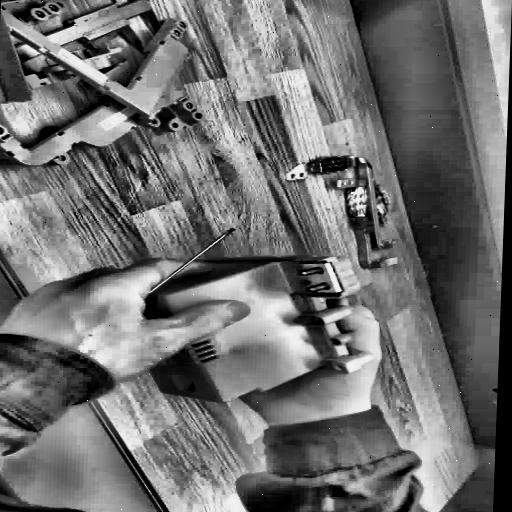busbar: (284, 152, 423, 270)
connector: (118, 249, 379, 410)
